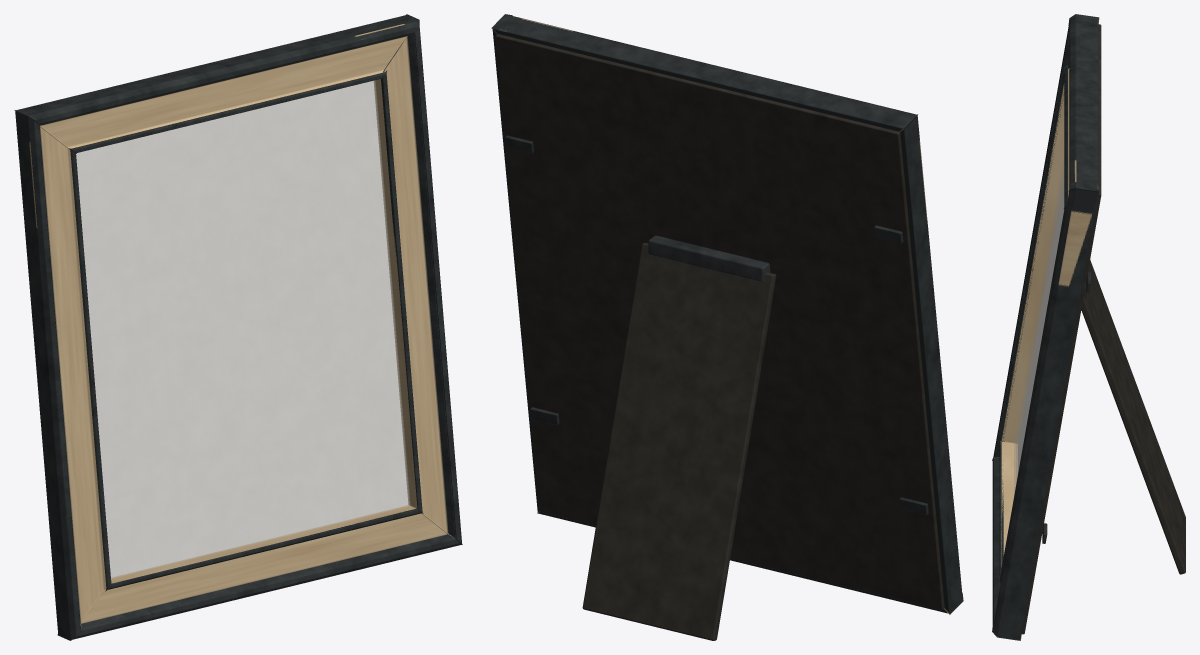
File: portarretrato_1.gltf
3 views of the same model, side by side, from view 1: azimuth 30°, elevation 25°; view 2: azimuth 150°, elevation 25°; view 3: azimuth 270°, elevation 25° (orthographic). The views are drawn at different scales.
Visible parts, largest first — view 1: cristal, foto, liston.003, liston.001, liston.002, liston, ribete.003, ribete.001, ribete.002, ribete; view 2: respaldo, soporte, liston.003, liston.002, bisagra, liston.001, liston; view 3: liston.001, soporte, liston.003, liston.002, cristal, liston, respaldo, foto, ribete.003, ribete.001, ribete.002, ribete.
Part boxes in pixels (box(x1,y1,x2,y2)): cristal: box(76, 80, 409, 578); foto: box(76, 81, 408, 577); liston.003: box(14, 110, 106, 640); liston.001: box(373, 26, 461, 542); liston.002: box(15, 14, 419, 148); liston: box(73, 505, 462, 639); ribete.003: box(69, 148, 111, 591); ribete.001: box(381, 74, 422, 512); ribete.002: box(70, 70, 387, 152); ribete: box(108, 508, 423, 589); respaldo: box(495, 34, 944, 610); soporte: box(582, 242, 776, 640); liston.003: box(900, 116, 963, 614); liston.002: box(491, 14, 917, 131); bisagra: box(648, 235, 770, 281); liston.001: box(492, 30, 539, 513); liston: box(538, 512, 947, 613); liston.001: box(992, 188, 1099, 640); soporte: box(1081, 259, 1185, 574); liston.003: box(993, 26, 1069, 457); liston.002: box(1068, 14, 1099, 197); cristal: box(1014, 161, 1063, 493); liston: box(992, 441, 1017, 624); respaldo: box(1021, 24, 1101, 634); foto: box(1018, 180, 1064, 472); ribete.003: box(1000, 73, 1064, 441); ribete.001: box(999, 206, 1066, 584); ribete.002: box(1063, 65, 1068, 206); ribete: box(999, 441, 1004, 576).
Bounding box in the file's own units: 0.2305 × 0.2792 × 0.1084.
7 materials, 6 textured.
